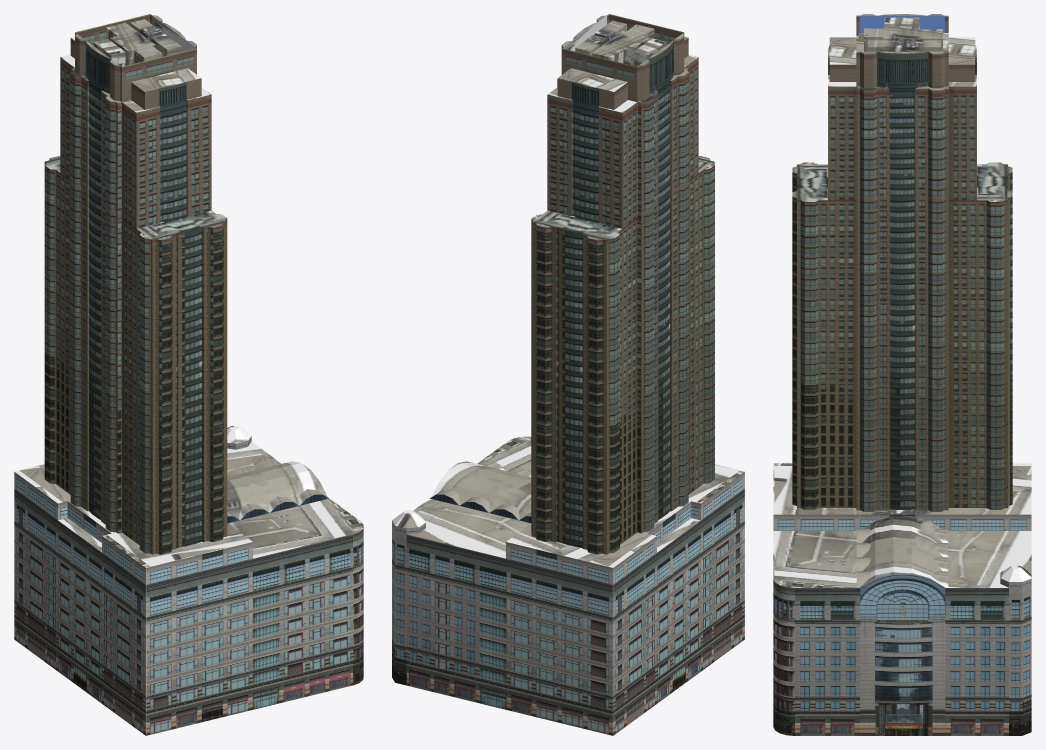
The model's file is ChicagoPlace.fbx.
3 renders of one model, left to right at view 1: azimuth 30°, elevation 25°; view 2: azimuth 150°, elevation 25°; view 3: azimuth 270°, elevation 25°, orthographic. The views are drawn at different scales.
Visible parts, largest first — view 1: Model, Group_1_2, Group_1_1; view 2: Group_1_2, Model, Group_1_1; view 3: Group_1_1, Model, Group_1_2.
Boxes of the visible parts, x1,y1,x2,y2 form: Model: (14, 19, 363, 735); Group_1_2: (44, 14, 152, 554); Group_1_1: (122, 14, 227, 554); Group_1_2: (531, 32, 714, 554); Model: (392, 20, 744, 735); Group_1_1: (531, 14, 714, 532); Group_1_1: (792, 37, 1007, 511); Model: (773, 17, 1031, 735); Group_1_2: (800, 14, 1012, 505).
Bounding box in the file's own units: 2749 × 7294 × 2750.
